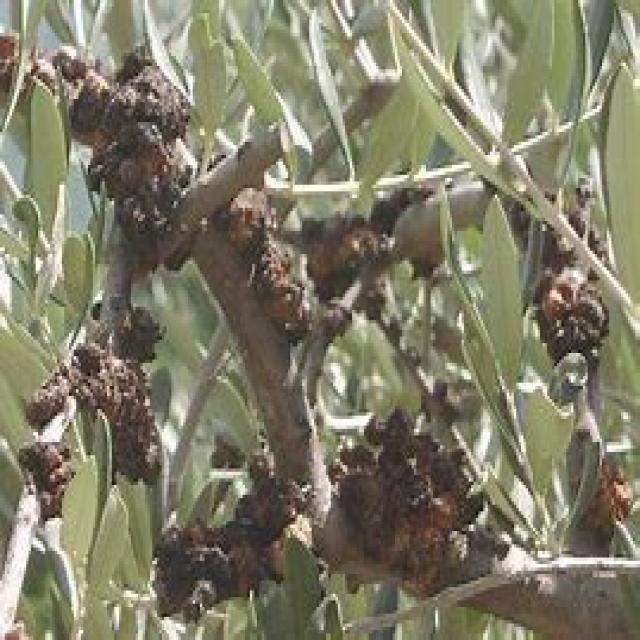Tuberculosis: (326, 406, 495, 594), (55, 44, 190, 267), (157, 468, 309, 617), (26, 336, 157, 475), (217, 188, 309, 340), (533, 234, 607, 366), (305, 214, 385, 297), (19, 445, 74, 518), (580, 455, 630, 528), (122, 301, 169, 362)
